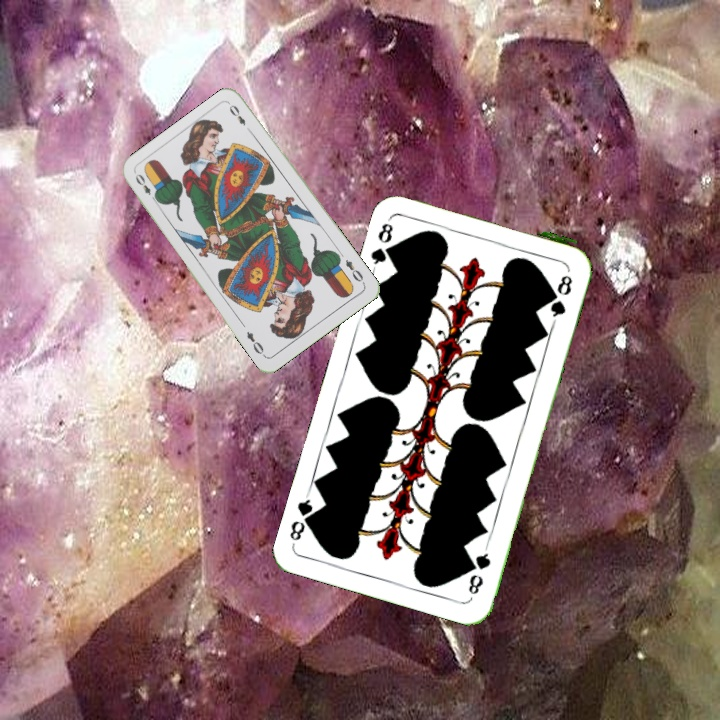EO: (131, 170, 160, 205), (341, 255, 367, 287)
G8: (366, 211, 399, 268), (464, 542, 493, 598)
